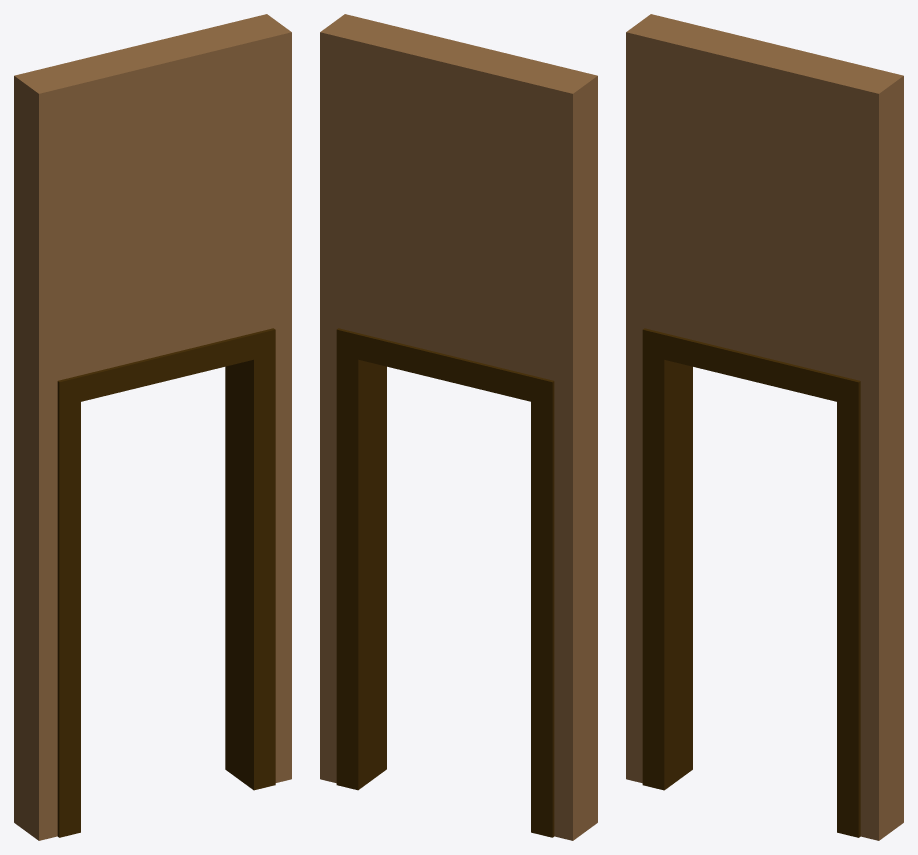
The model's file is Me_Wall_Door.fbx.
The picture shows the model from 3 angles, left to right: view 1: azimuth 30°, elevation 25°; view 2: azimuth 150°, elevation 25°; view 3: azimuth 330°, elevation 25°; orthographic projection.
Visible parts, largest first — view 1: Me_Wall_Door; view 2: Me_Wall_Door; view 3: Me_Wall_Door.
Part boxes in pixels (left/top/right/bottom): Me_Wall_Door: left=14, top=14, right=291, bottom=840; Me_Wall_Door: left=320, top=14, right=597, bottom=840; Me_Wall_Door: left=626, top=14, right=903, bottom=840.
Bounding box in the file's own units: 1000 × 196 × 2823.
